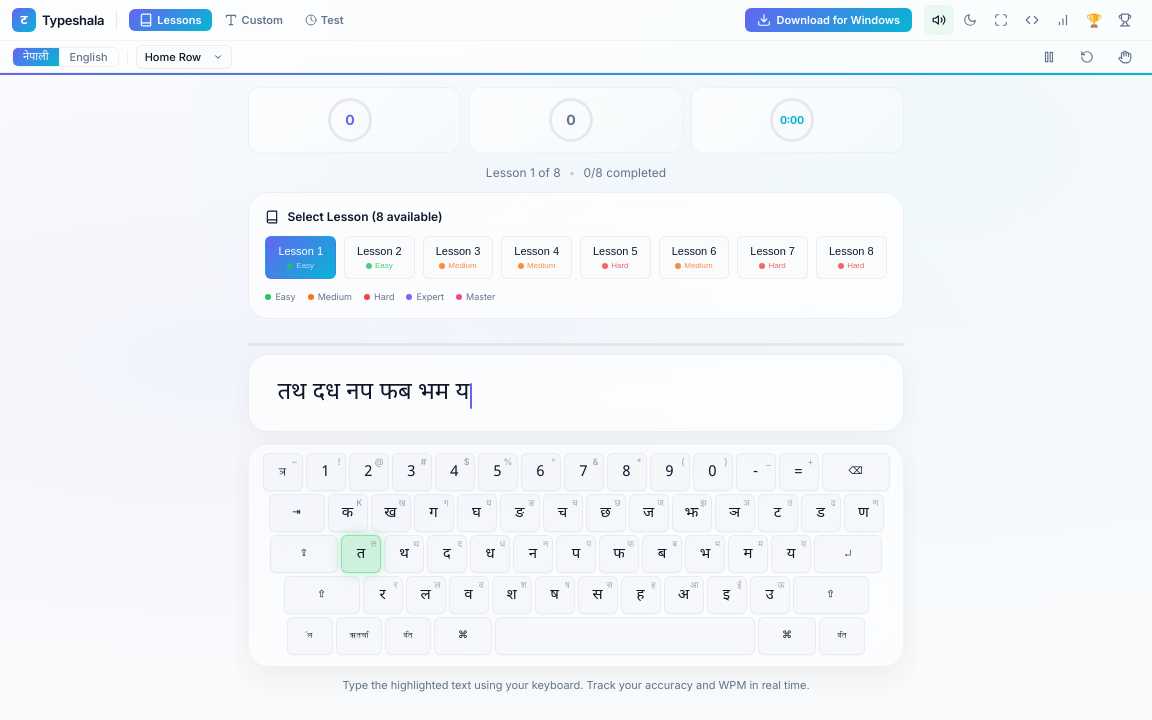
TypingTutor Integration › control buttons › toggles finger guide
Click the button titled "Finger Guide": (1125, 56) [1110,42,1140,72]
(page scrolled)
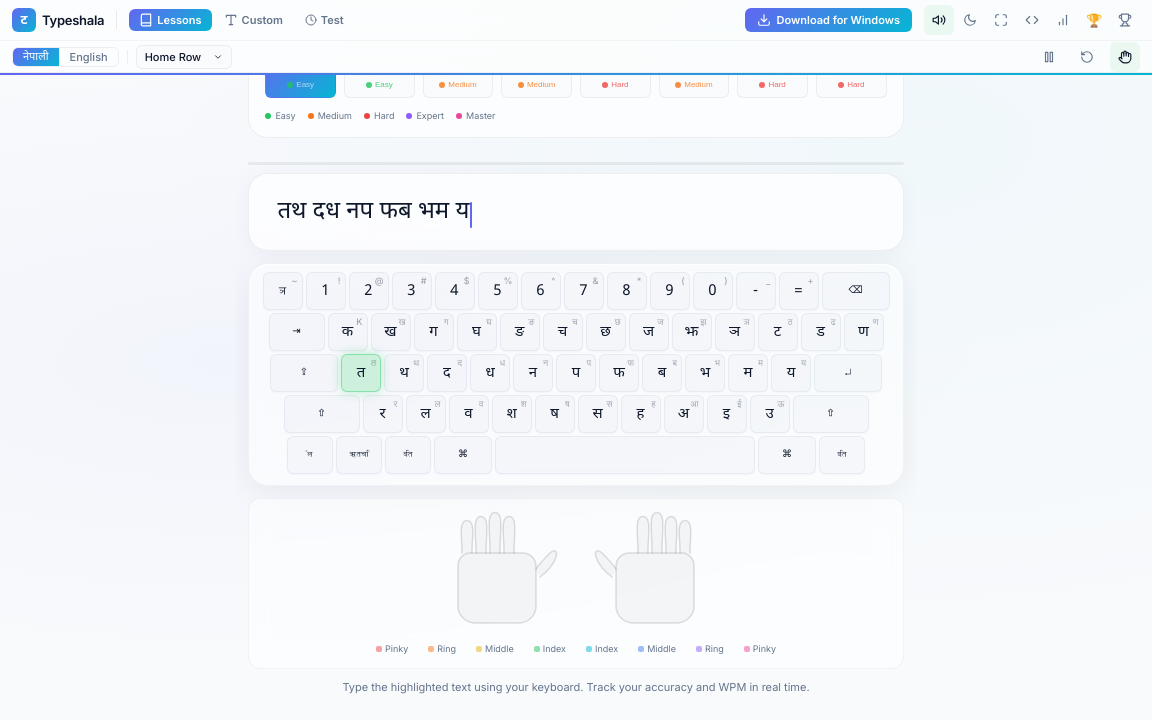
Now the 1st text "Pinky" is shown, box [385,643,408,654]
